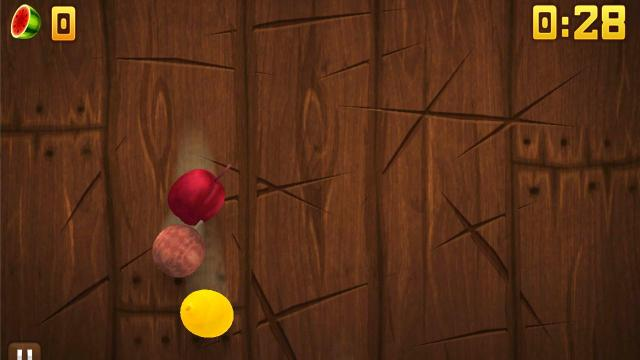fruit: (168, 165, 226, 225), (151, 224, 207, 278), (179, 290, 233, 338)
ignore: (9, 3, 43, 41)
